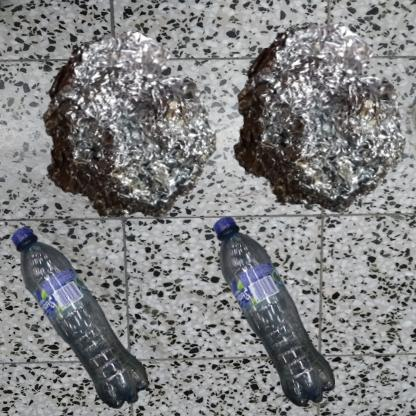aluminio: (10, 10, 251, 265), (213, 10, 416, 236)
botella: (10, 213, 159, 416), (213, 213, 336, 412)
